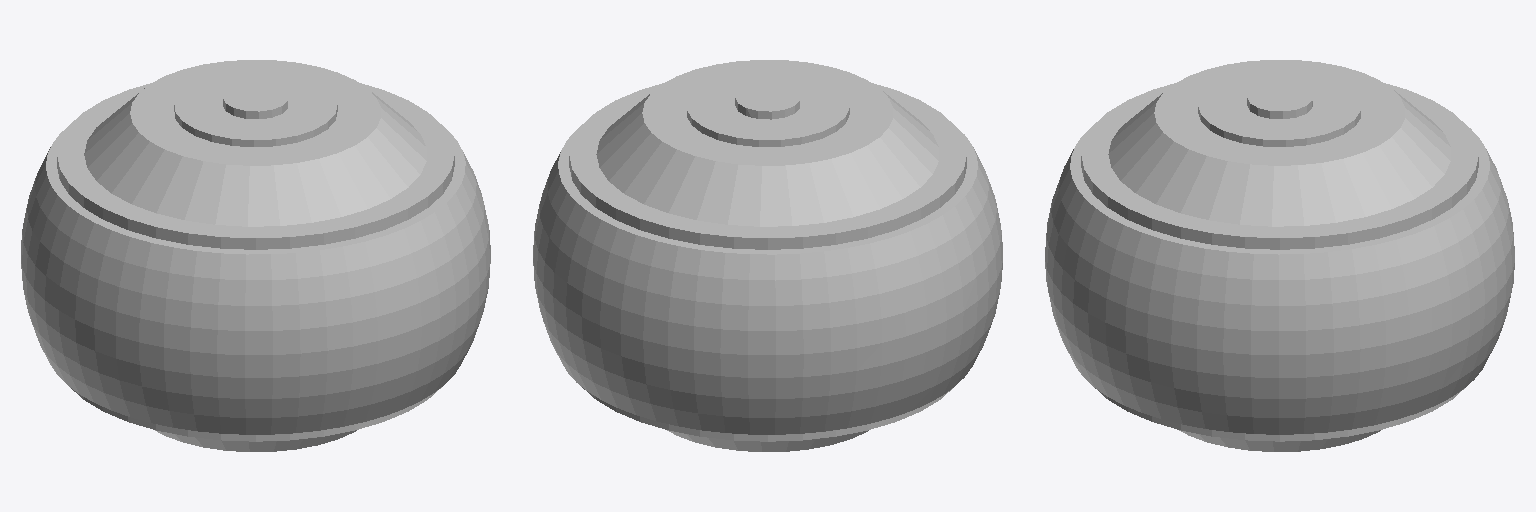
File: r_wheel_link.obj
The picture shows the model from 3 angles: view 1: azimuth 30°, elevation 25°; view 2: azimuth 150°, elevation 25°; view 3: azimuth 270°, elevation 25°; orthographic projection.
Bounding box in the file's own units: 0.1206 × 0.0895 × 0.1206.